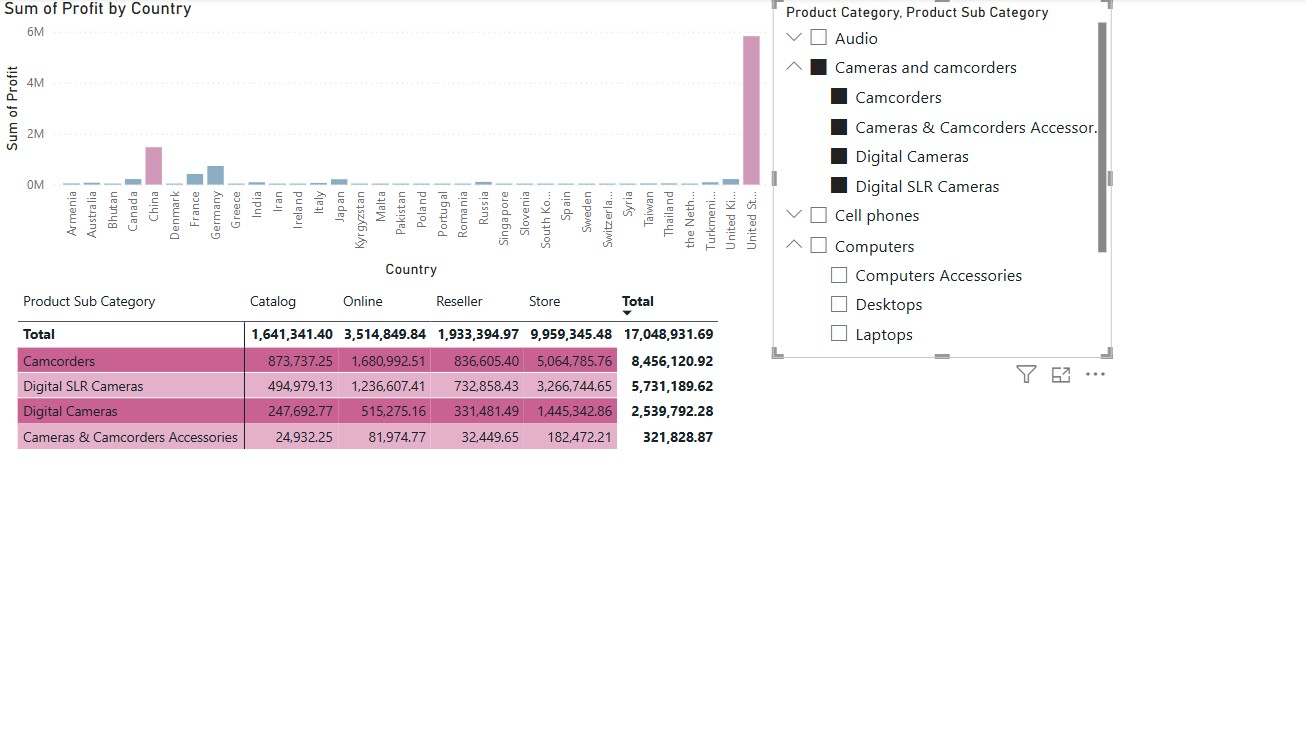

The page's visual inventory and layout, read from the dashboard file:
{"tool":"powerbi","page":{"name":"Page 4","canvas":[1280,720],"ordinal":3},"visuals":[{"type":"columnChart","fields":{"Y":["Sum(Data1.Profit)"],"Category":["Data1.Region","Data1.Country"]},"box":[0,0,757.5,278.6],"z":0},{"type":"pivotTable","fields":{"Values":["Sum(Data1.Sales)"],"Columns":["Data1.Channel"],"Rows":["Data1.Product Sub Category"]},"box":[13.7,278.6,725.9,441.9],"z":1000},{"type":"slicer","fields":{"Values":["Data1.Product Category","Data1.Product Sub Category"]},"box":[739.6,6.9,332.1,352.7],"z":2000}]}

Visuals, with their boxes in screenshot pixels (x1, y1, x2, y2), scaled from the page's 1280x720 canvas onto the 1306x732 screenshot:
columnChart - Sum(Data1.Profit) x Data1.Region: BBox(0, 0, 773, 283)
pivotTable - Sum(Data1.Sales) x Data1.Channel: BBox(14, 283, 755, 731)
slicer - Data1.Product Category x Data1.Product Sub Category: BBox(755, 7, 1093, 366)
